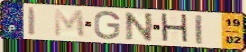G: (93, 10, 122, 41)
H: (159, 12, 191, 45)
I: (27, 6, 39, 38), (194, 13, 205, 45)
M: (52, 8, 87, 39)
N: (123, 11, 155, 43)
